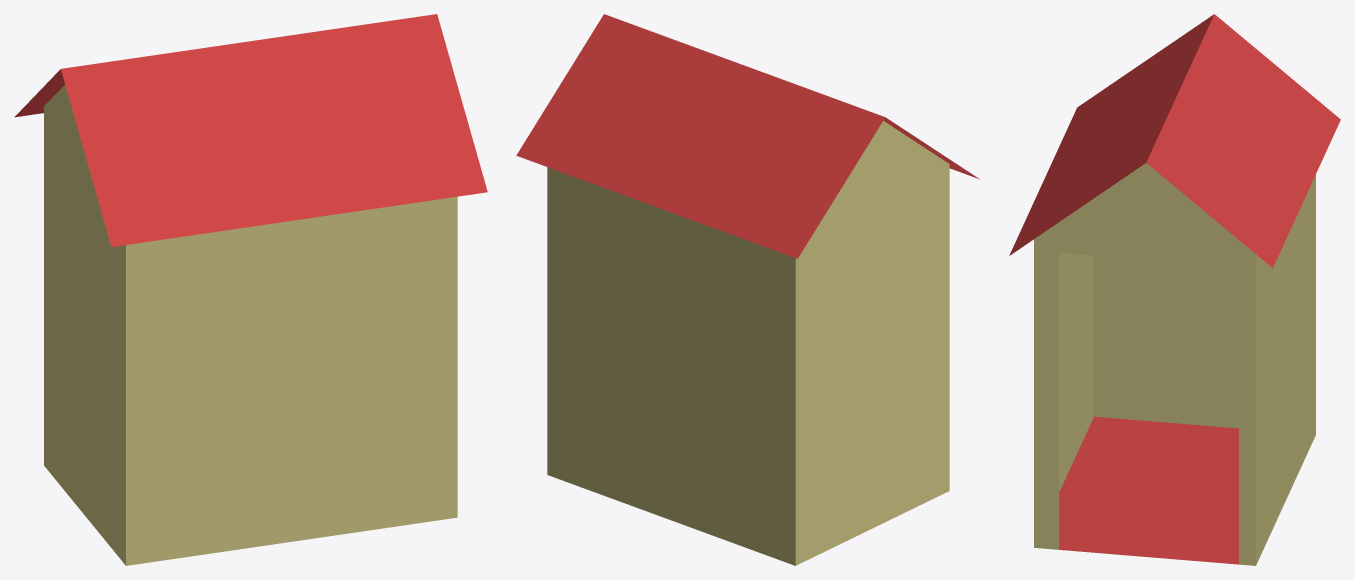
3 views of the same model, side by side, from view 1: azimuth 30°, elevation 25°; view 2: azimuth 150°, elevation 25°; view 3: azimuth 270°, elevation 25° (orthographic). The views are drawn at different scales.
Parts seen in each view (by area): view 1: group_5, group_3, group_4; view 2: group_5, group_3, group_4; view 3: group_5, group_3, group_6, group_4.
Part boxes in pixels (x1,y1,x2,y2): group_5: (44, 84, 457, 565); group_3: (14, 15, 487, 246); group_4: (60, 14, 486, 246); group_5: (547, 121, 949, 565); group_3: (518, 14, 972, 258); group_4: (516, 15, 979, 258); group_5: (1034, 163, 1315, 565); group_3: (1009, 14, 1328, 267); group_6: (1059, 416, 1238, 564); group_4: (1009, 14, 1340, 267).
Size of the model in its own units: 14.22 by 11.7 by 15.69.
